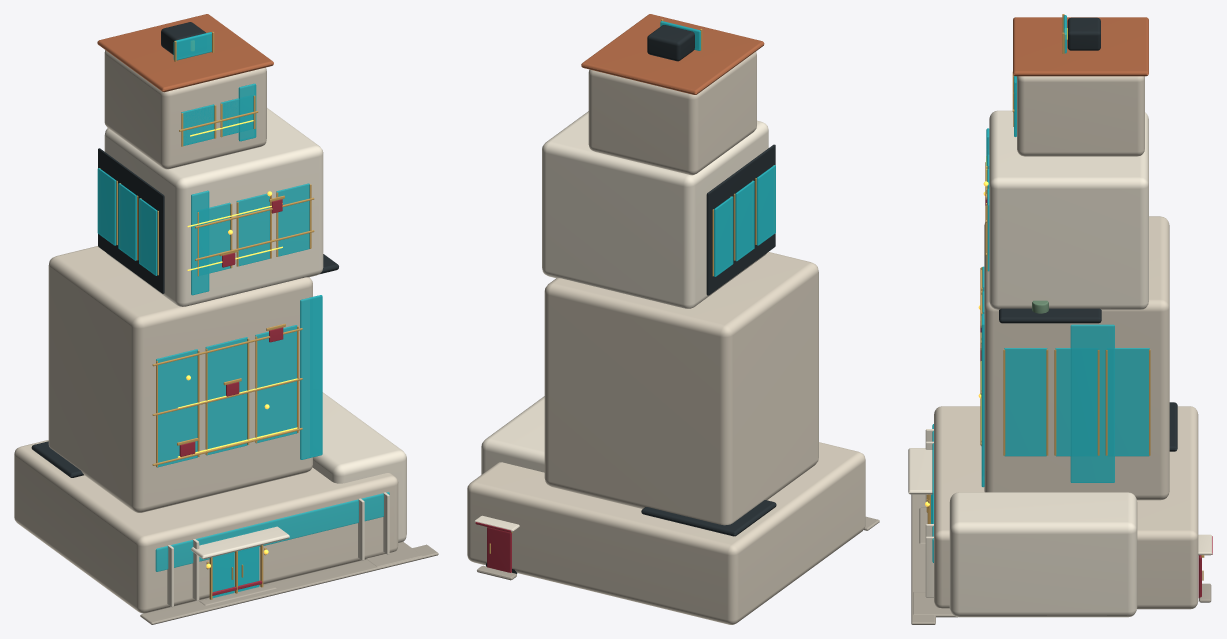
File: compact_podium_glass_tower_v1.caa4b79ab289.glb
The picture shows the model from 3 angles, left to right: view 1: azimuth 30°, elevation 25°; view 2: azimuth 150°, elevation 25°; view 3: azimuth 270°, elevation 25°; orthographic projection. The views are drawn at different scales.
Parts seen in each view (by area): view 1: compact_podium_glass_tower_v1_LOD0; view 2: compact_podium_glass_tower_v1_LOD0; view 3: compact_podium_glass_tower_v1_LOD0.
Part boxes in pixels (x1,y1,x2,y2): compact_podium_glass_tower_v1_LOD0: (14, 14, 438, 624); compact_podium_glass_tower_v1_LOD0: (467, 14, 879, 624); compact_podium_glass_tower_v1_LOD0: (908, 14, 1212, 624).
Bounding box in the file's own units: 17.2 × 28.97 × 15.44.
